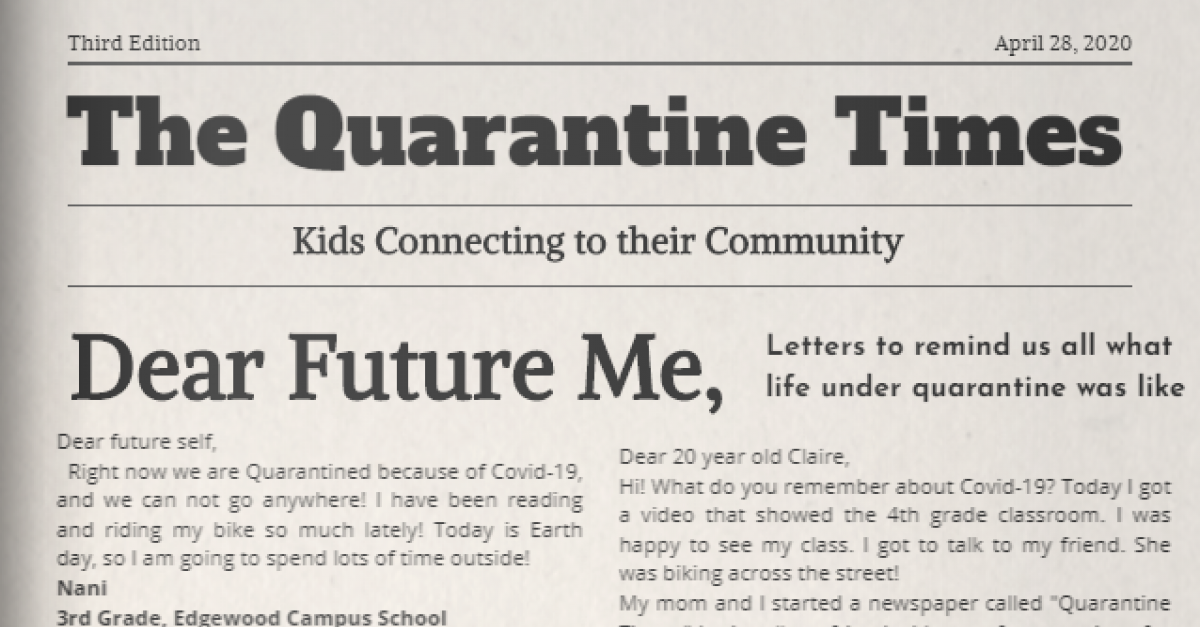news_paper: (10, 3, 1200, 627)
